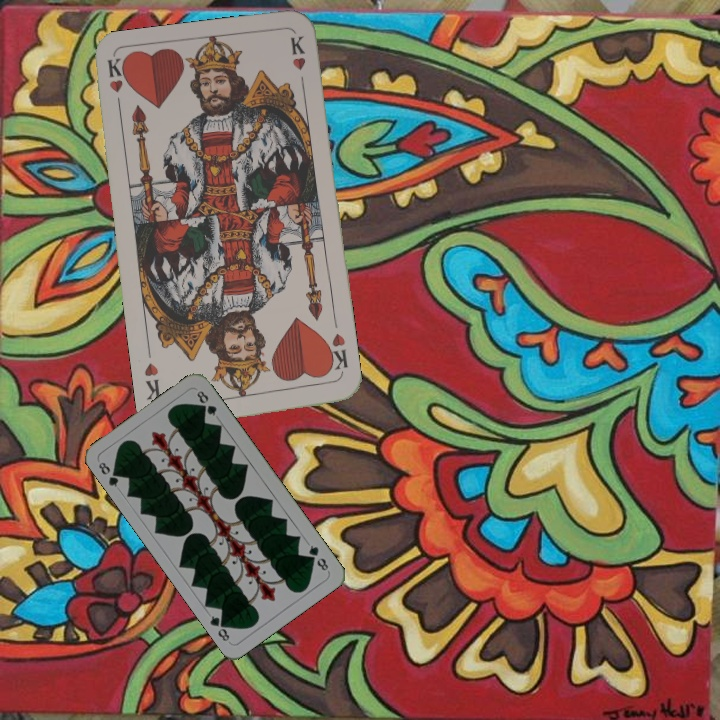G8: (94, 458, 123, 490), (304, 541, 331, 575)
HK: (103, 55, 129, 115), (321, 329, 350, 380)
